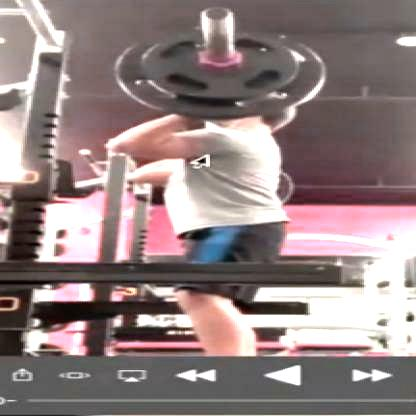Barbell: (196, 7, 231, 24)
